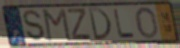D: (87, 7, 113, 41)
L: (112, 8, 136, 39)
M: (42, 8, 73, 43)
O: (135, 6, 160, 40)
S: (22, 9, 46, 42)
Z: (66, 7, 93, 42)
